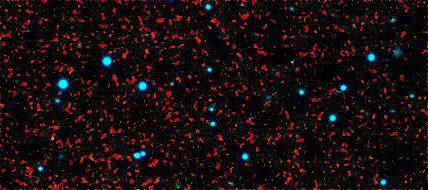star: (45, 78, 75, 108)
